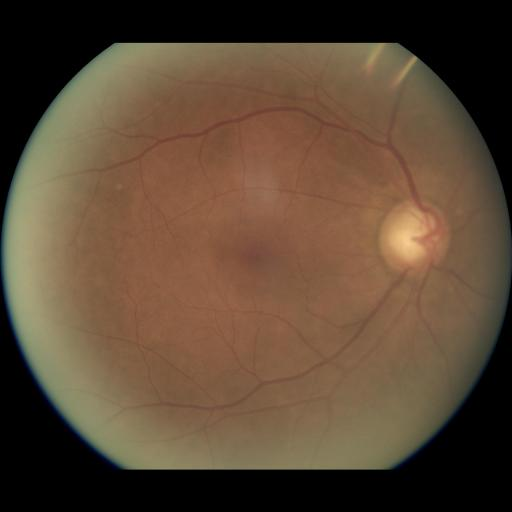Optic Cup: (391, 210, 437, 263)
Optic Disc: (378, 198, 451, 278)
